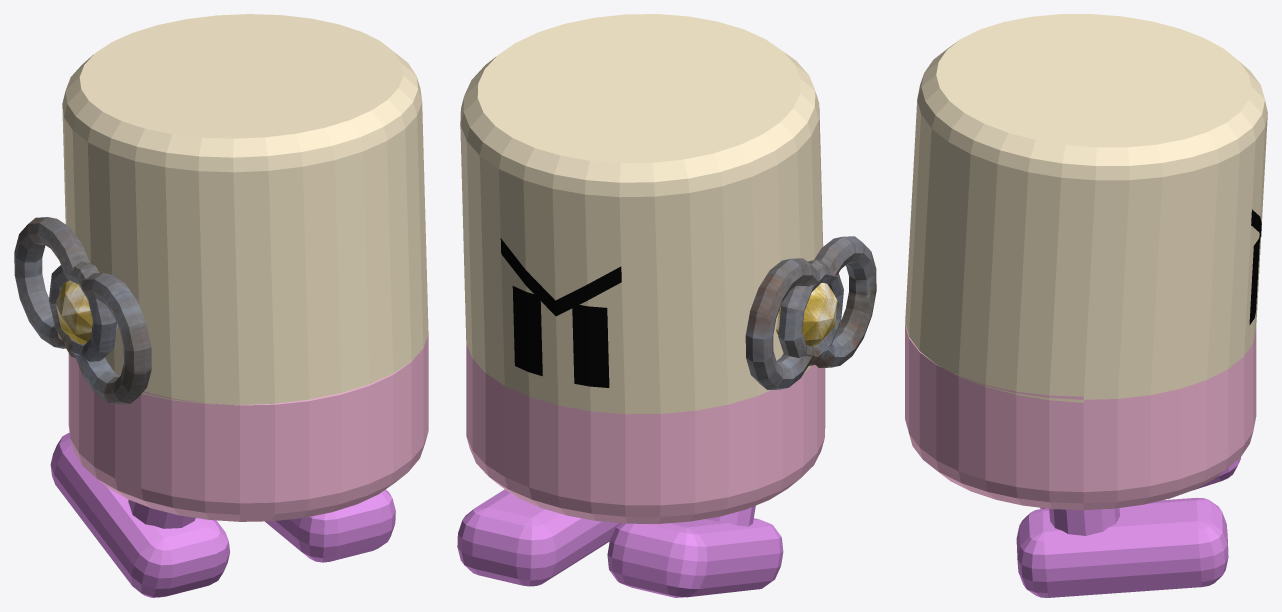
File: Toasters069.obj
3 views of the same model, side by side, from view 1: azimuth 30°, elevation 25°; view 2: azimuth 150°, elevation 25°; view 3: azimuth 270°, elevation 25° (orthographic). The views are drawn at different scales.
Visible parts, largest first — view 1: Head, Jaw, WindupKey, LeftLeg, RightLeg; view 2: Head, Jaw, WindupKey, LeftLeg, RightLeg; view 3: Head, Jaw, RightLeg.
Part boxes in pixels (x1,y1,x2,y2): Head: (62,14,428,405); Jaw: (68,333,428,521); WindupKey: (14,217,151,404); LeftLeg: (50,432,229,597); RightLeg: (265,489,395,562); Head: (460,14,823,414); Jaw: (466,344,825,523); WindupKey: (745,236,876,389); LeftLeg: (607,505,783,597); RightLeg: (457,489,620,586); Head: (905,14,1267,402); Jaw: (905,323,1256,510); RightLeg: (1016,497,1228,597).
Size of the model in its own units: 110 by 151 by 103.
6 materials, 2 textured.
